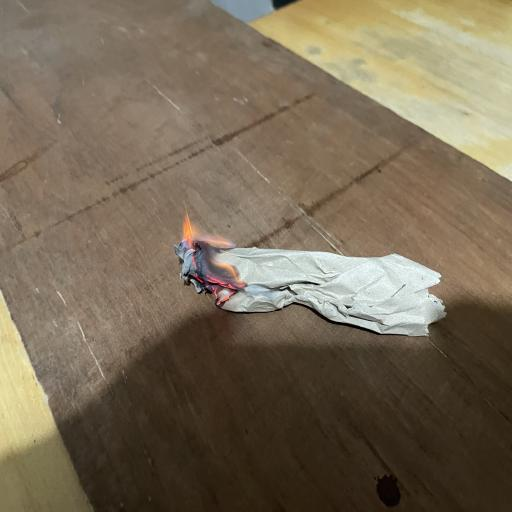fire: (151, 175, 243, 329)
